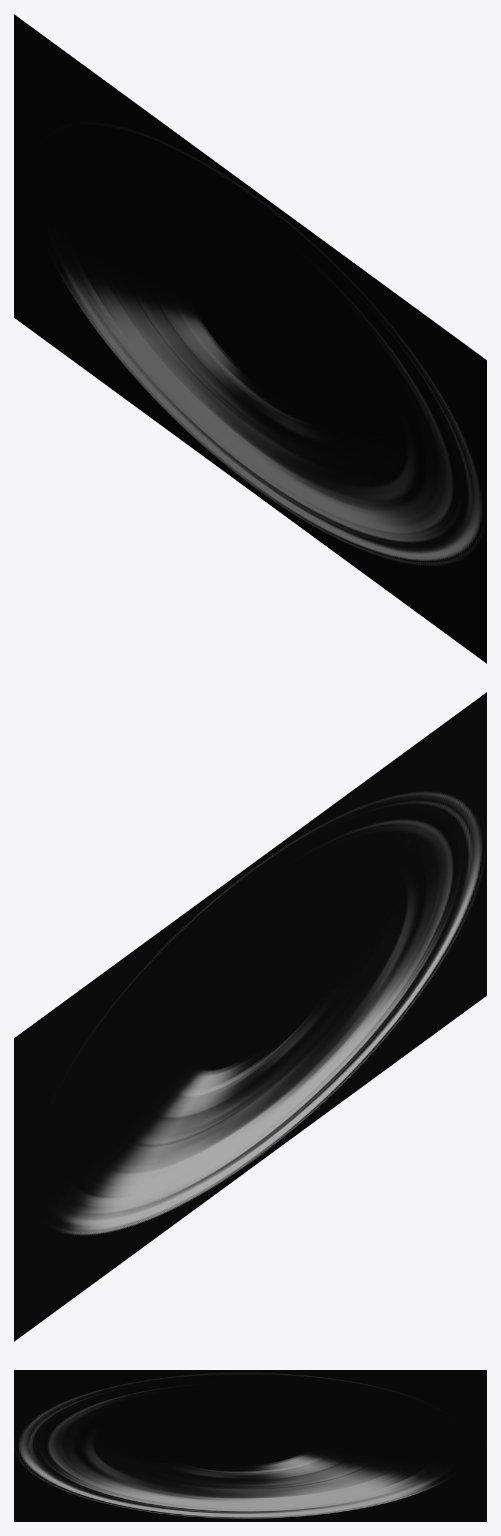
Rendered from 0502_zhandoubaolongshou_M_01.glb.
3 renders of one model, top to bottom at view 1: azimuth 30°, elevation 25°; view 2: azimuth 150°, elevation 25°; view 3: azimuth 270°, elevation 25°, orthographic. The views are drawn at different scales.
Size of the model in its own units: 0 by 0.7789 by 2.2.
Materials: 1 (1 with a texture image).
